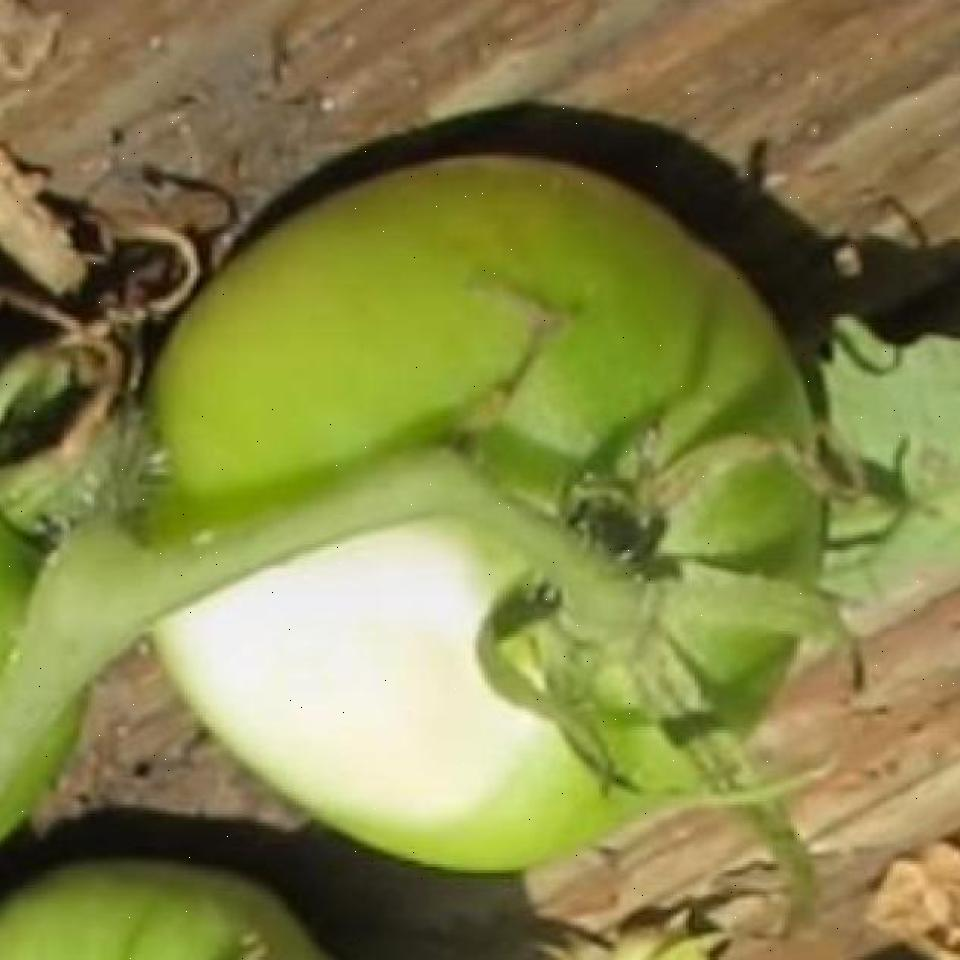Sunscald: (141, 490, 531, 850)
